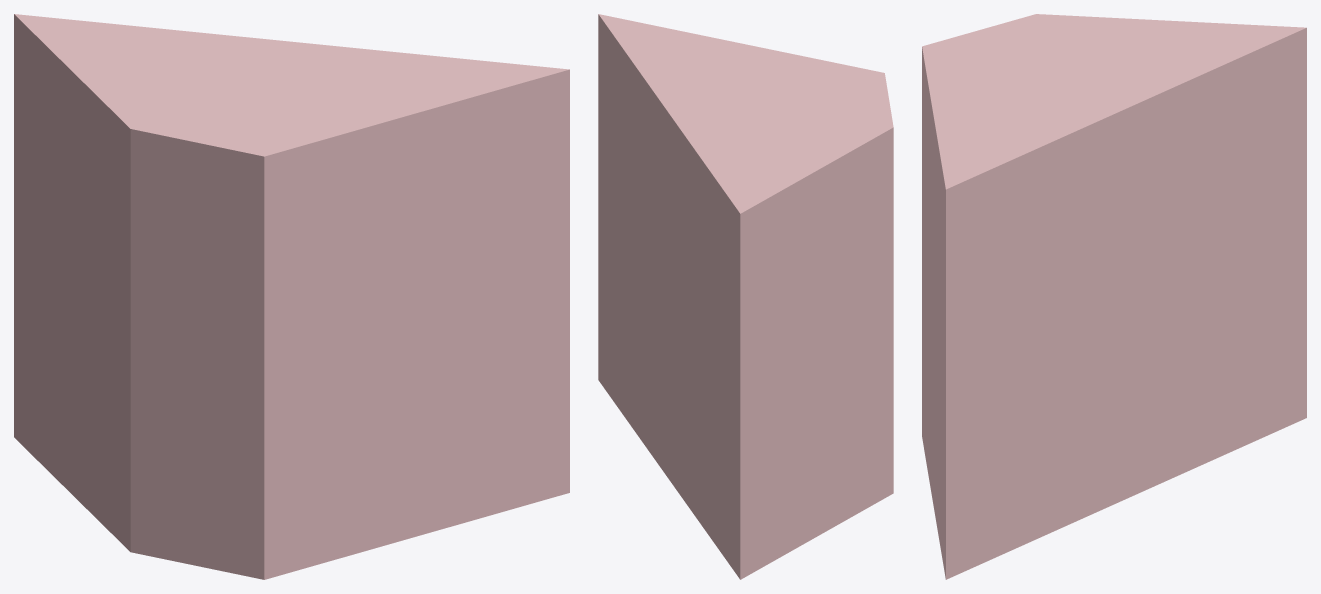
File: keelung.glb
3 views of the same model, side by side, from view 1: azimuth 30°, elevation 25°; view 2: azimuth 150°, elevation 25°; view 3: azimuth 270°, elevation 25° (orthographic). The views are drawn at different scales.
Visible parts, largest first — view 1: pPlane1; view 2: pPlane1; view 3: pPlane1.
Part boxes in pixels (<box>): pPlane1: <box>14,14,569,579</box>; pPlane1: <box>598,14,893,579</box>; pPlane1: <box>922,14,1306,579</box>.
Size of the model in its own units: 0.2672 by 0.2769 by 0.2474.
Materials: 1 (1 with a texture image).
